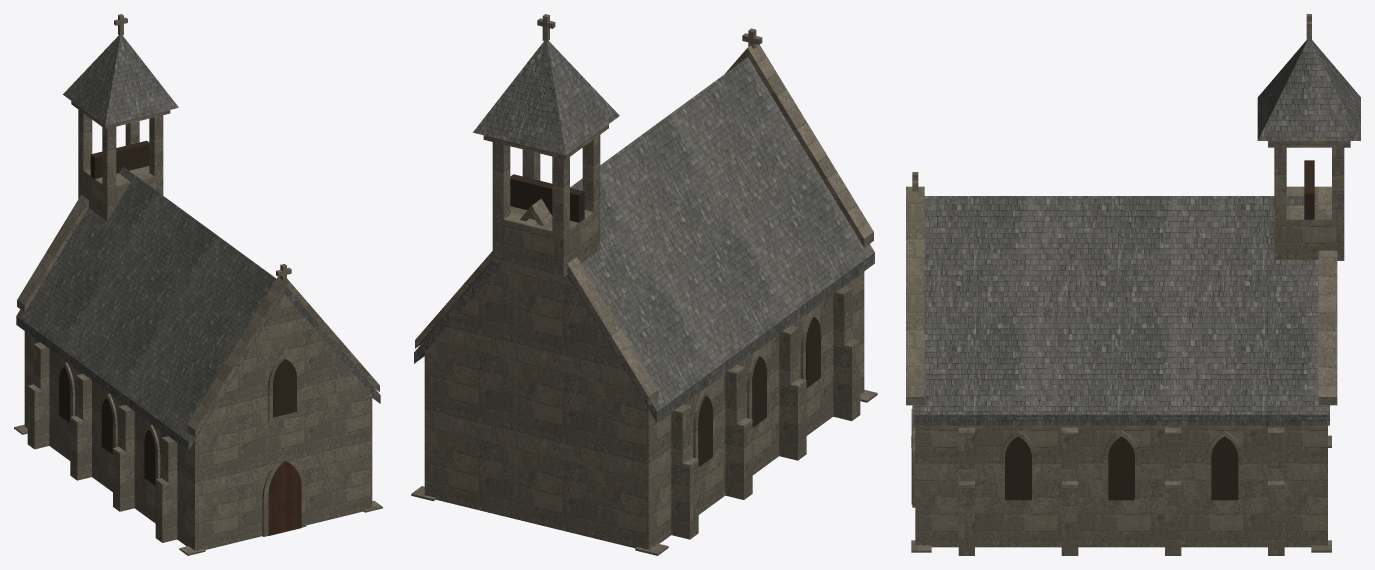
File: chapel.glb
The picture shows the model from 3 angles, left to right: view 1: azimuth 30°, elevation 25°; view 2: azimuth 150°, elevation 25°; view 3: azimuth 270°, elevation 25°; orthographic projection. The views are drawn at different scales.
Visible parts, largest first — view 1: chapel_export; view 2: chapel_export; view 3: chapel_export.
Boxes of the visible parts, left/top/right/bottom form: chapel_export: left=14, top=14, right=382, bottom=555; chapel_export: left=411, top=14, right=877, bottom=555; chapel_export: left=906, top=14, right=1360, bottom=555.
Size of the model in its own units: 15.24 by 27.93 by 24.
4 materials, 3 textured.
